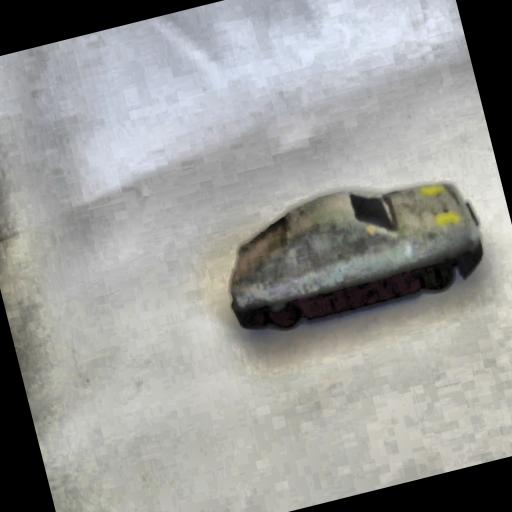normal_car: (204, 154, 497, 346)
